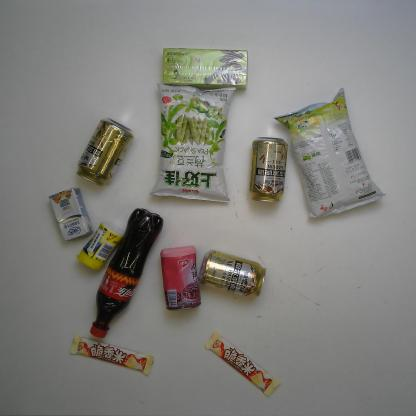Alcohol: (74, 115, 135, 190), (196, 249, 267, 298), (250, 132, 289, 203)
Canned Food: (160, 244, 202, 312)
Chocolate: (204, 329, 280, 397), (70, 334, 155, 376)
Drink: (88, 208, 164, 339)
Gum: (75, 221, 125, 272)
Instant Drink: (159, 43, 249, 92)
Milk: (48, 186, 95, 242)
Puffed Food: (274, 88, 389, 224), (148, 82, 237, 205)
